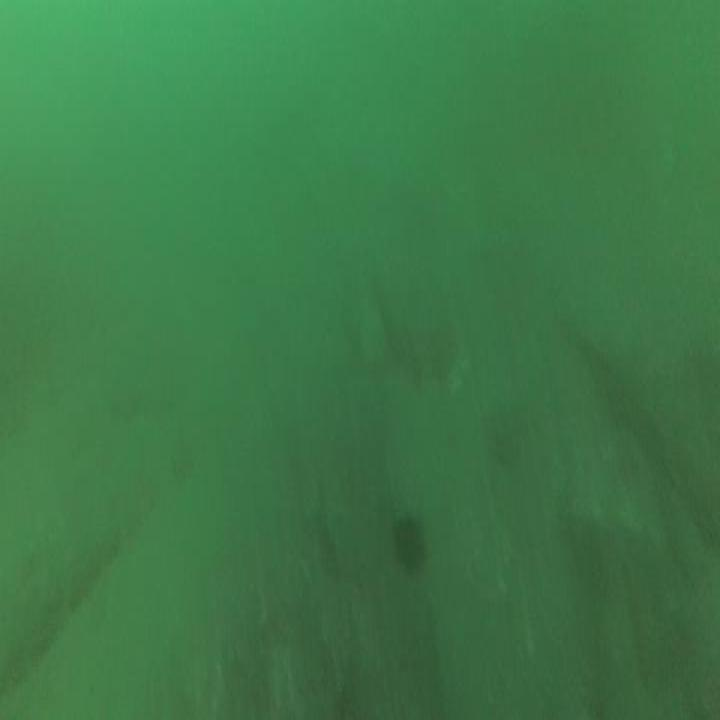echinus: (393, 516, 424, 572)
